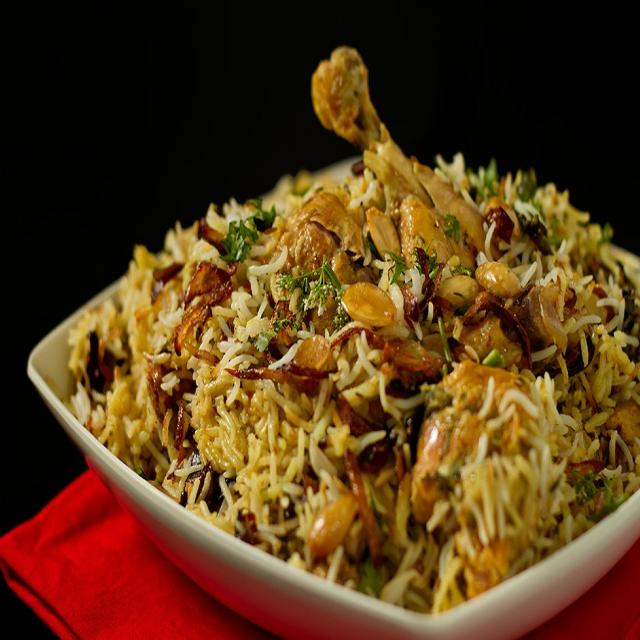Biryani: (54, 45, 640, 615)
